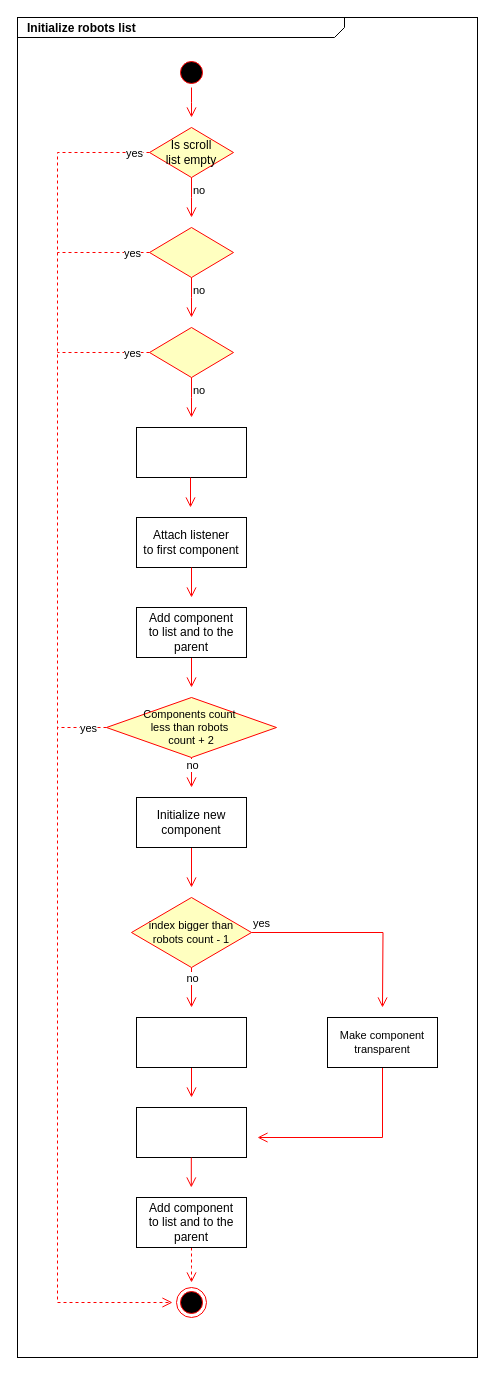
Some shapes in this 495 by 1375 pixel diagram are drawn without their labels. The shapes that lost their labels are listed below. From the top down, each one's centre as x and y in pixels, then its label:
At (191,252): "Stickers less or equal 0".
At (191,352): "Robots less than 1".
At (191,452): "Initilize first component".
At (191,1042): "Fill component with robot data".
At (191,1132): "Attach listener to component".
